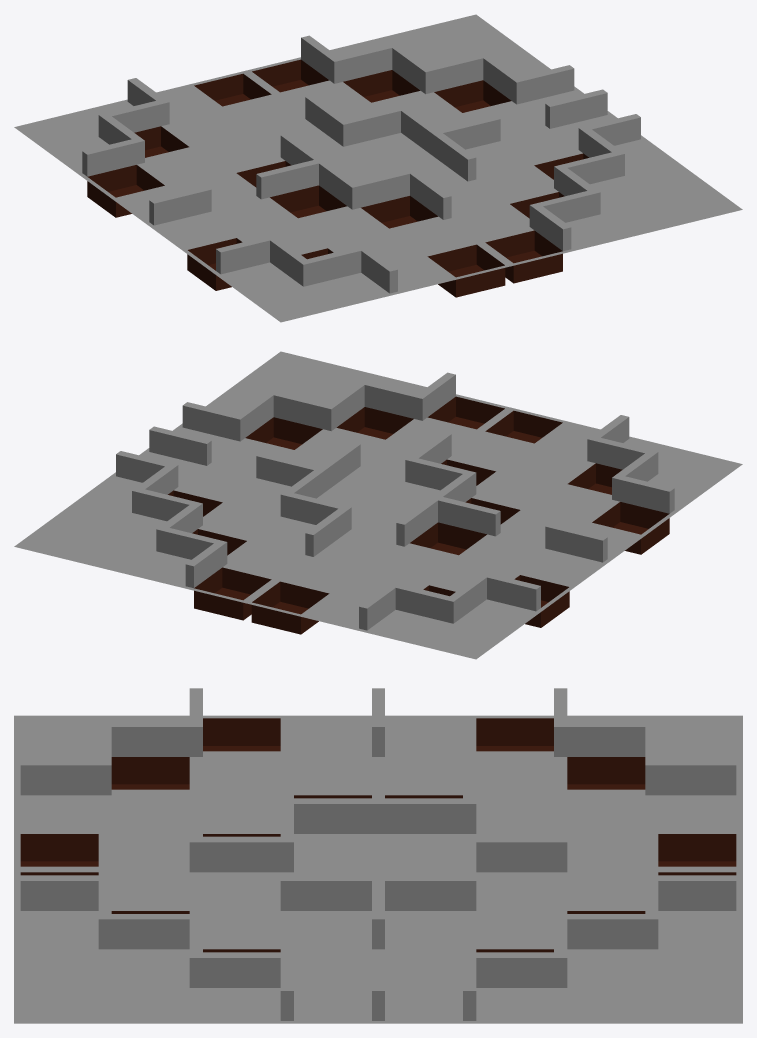
Rendered from LevelJustPits.FBX.
3 views of the same model, one above another, from view 1: azimuth 30°, elevation 25°; view 2: azimuth 150°, elevation 25°; view 3: azimuth 270°, elevation 25° (orthographic). The views are drawn at different scales.
Visible parts, largest first — view 1: FloorFour, InnerWallsJustPits; view 2: FloorFour, InnerWallsJustPits; view 3: FloorFour, InnerWallsJustPits.
Part boxes in pixels (bbox=[...]): FloorFour: bbox=[14, 14, 742, 322]; InnerWallsJustPits: bbox=[82, 35, 640, 293]; FloorFour: bbox=[14, 351, 742, 659]; InnerWallsJustPits: bbox=[116, 372, 674, 630]; FloorFour: bbox=[14, 715, 742, 1023]; InnerWallsJustPits: bbox=[20, 688, 736, 1020].
Bounding box in the file's own units: 551 × 48 × 551.
